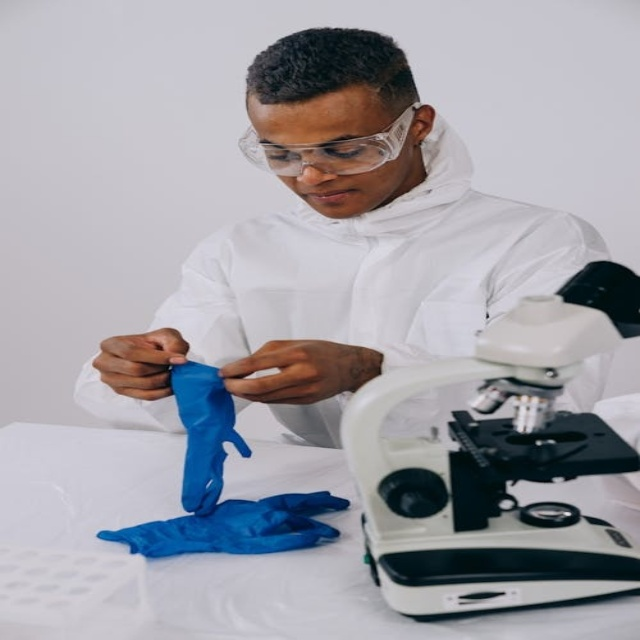Gafas: (240, 104, 418, 178)
Sin_guantes: (218, 338, 380, 407), (91, 326, 195, 400)
Sin_mascara: (296, 185, 362, 218)
